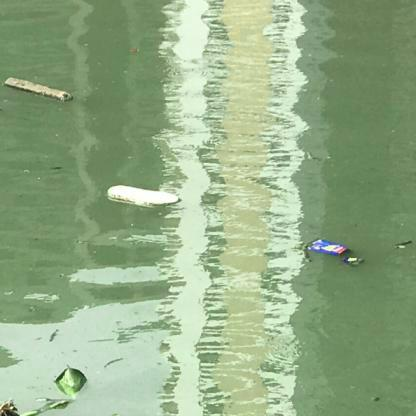Trash: (103, 184, 179, 212), (306, 236, 354, 257)
